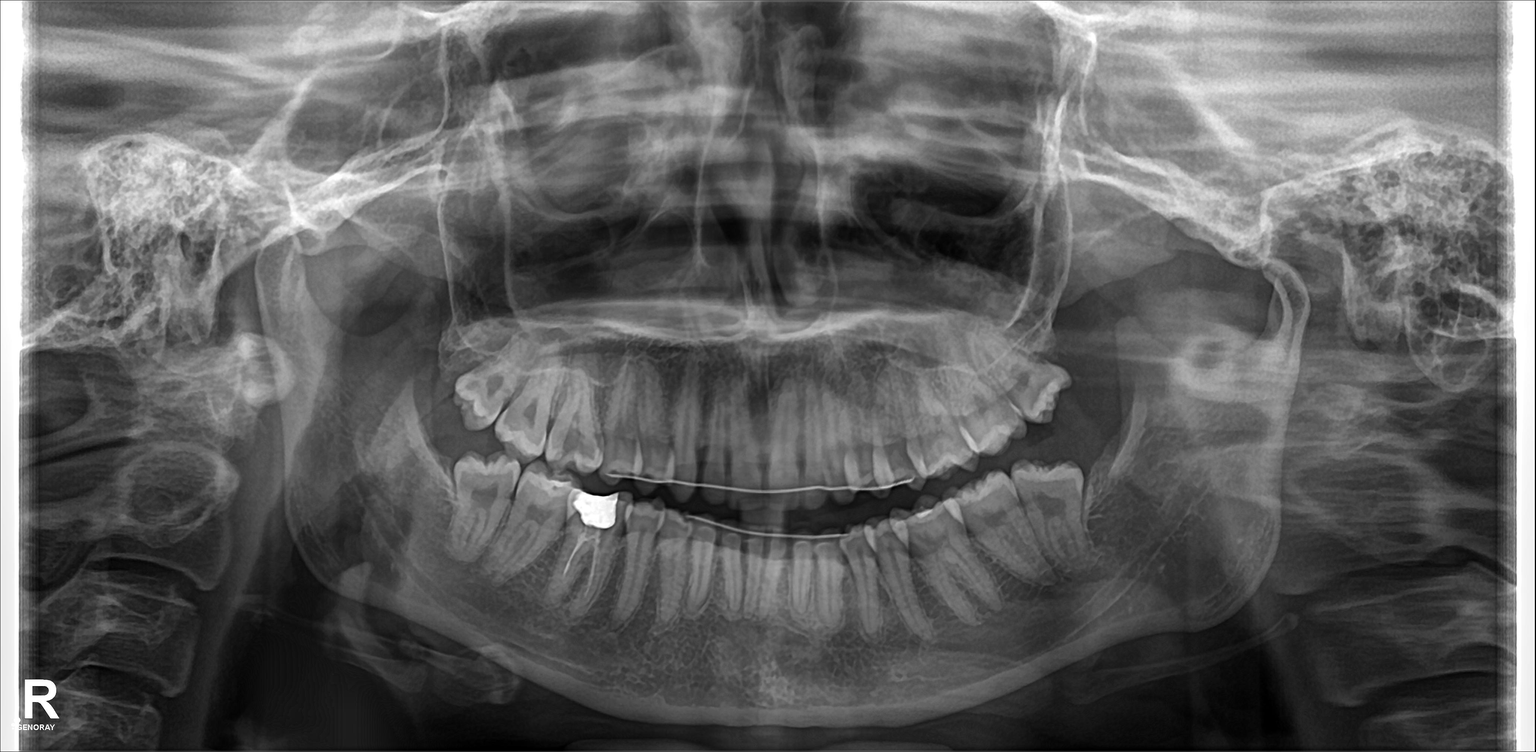Dental Caries: (555, 430, 593, 457), (482, 372, 508, 402)
Endodontically Treated Tooth: (575, 499, 614, 593)
Missing Tooth: (1058, 289, 1099, 371), (1082, 410, 1120, 487)
